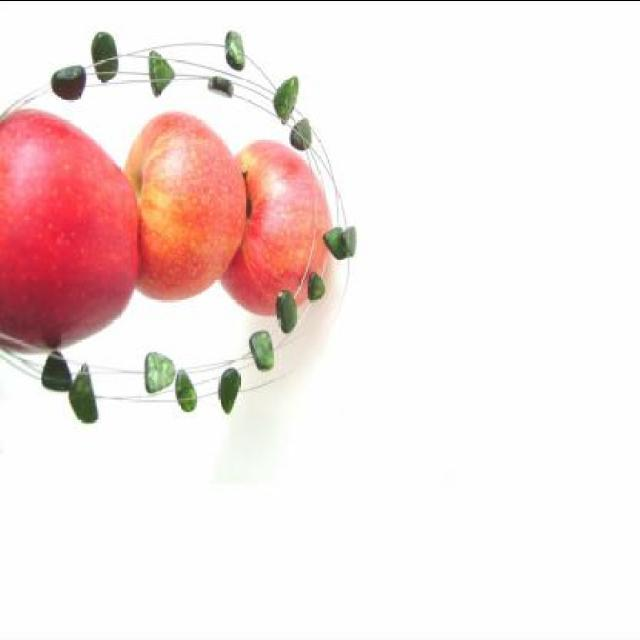Apple pie: (1, 82, 138, 354), (122, 108, 246, 304), (216, 141, 328, 319)
